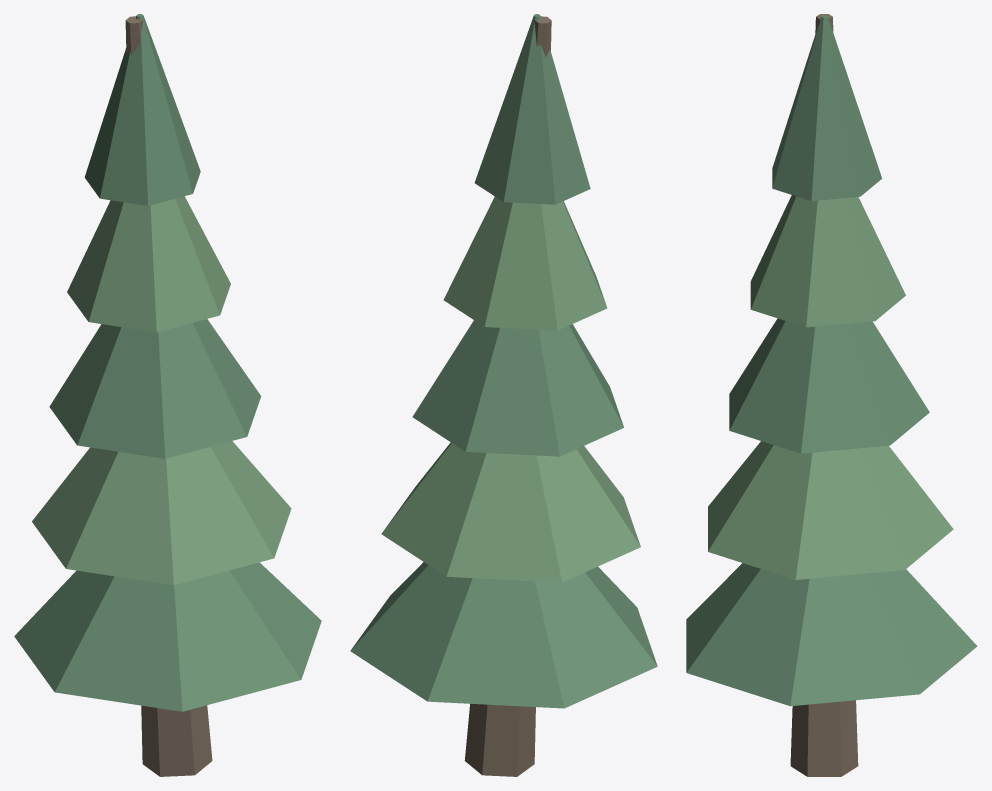
Rendered from pine_v01.glb.
3 renders of one model, left to right at view 1: azimuth 30°, elevation 25°; view 2: azimuth 150°, elevation 25°; view 3: azimuth 270°, elevation 25°, orthographic. The views are drawn at different scales.
Visible parts, largest first — view 1: lod0; view 2: lod0; view 3: lod0.
Part boxes in pixels (x1,y1,x2,y2): lod0: [14, 14, 321, 776]; lod0: [350, 14, 657, 776]; lod0: [686, 14, 977, 776].
Size of what is drawn, in the model's own units: 1.76 by 4.78 by 1.72.
